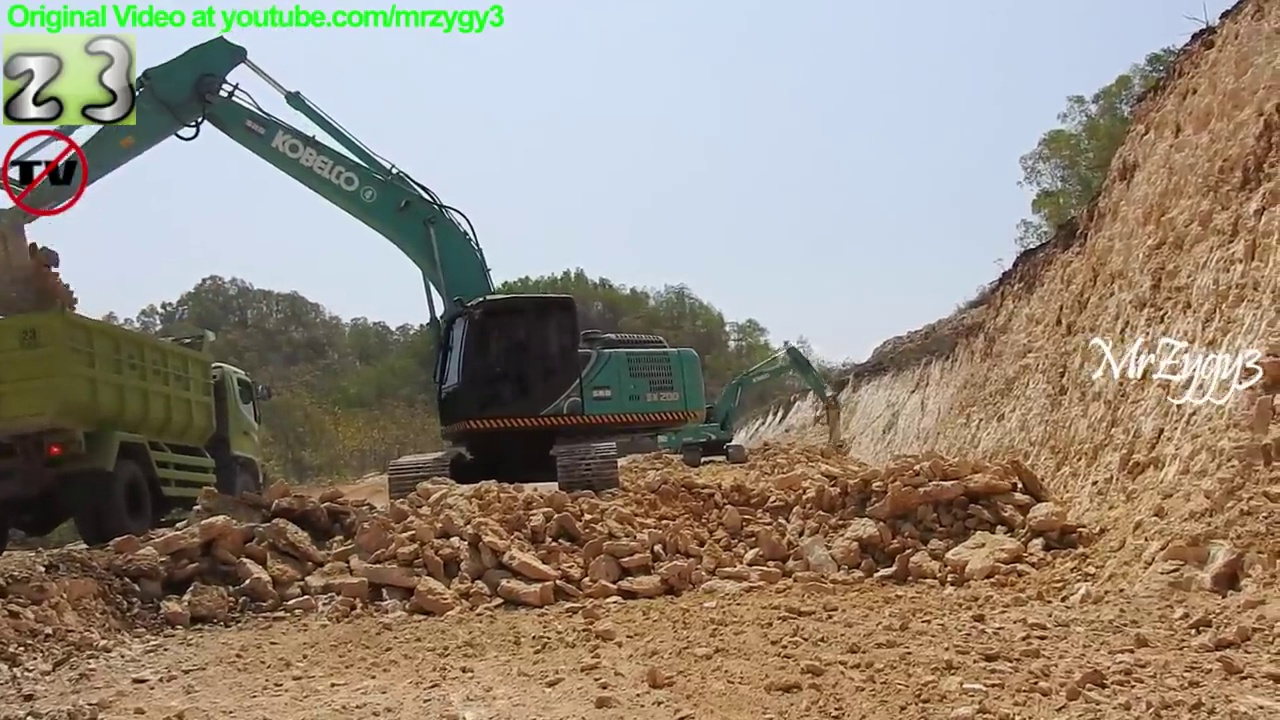excavator: (1, 31, 715, 514), (653, 338, 851, 472)
truck: (1, 292, 281, 564)
